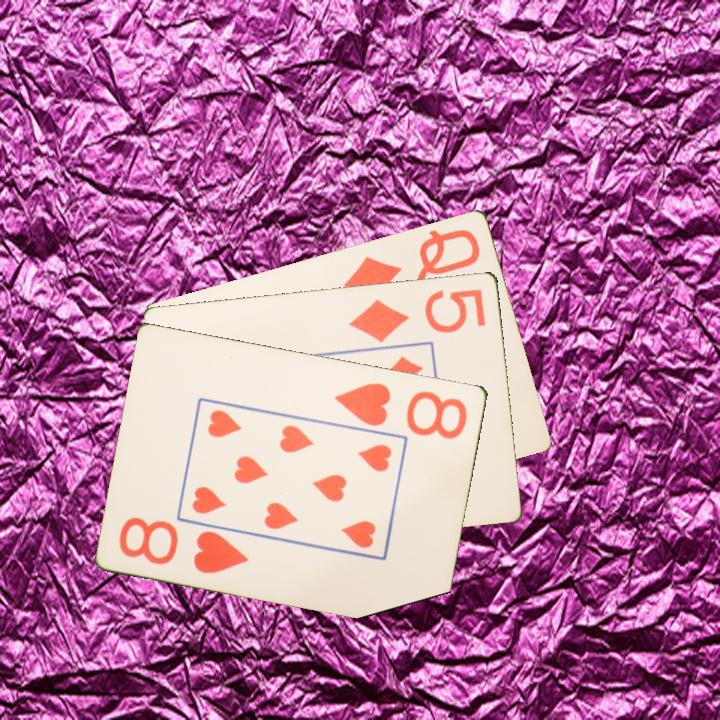5d: (345, 285, 489, 345)
8h: (331, 378, 471, 442), (115, 513, 252, 577)
Qd: (340, 225, 484, 301)
